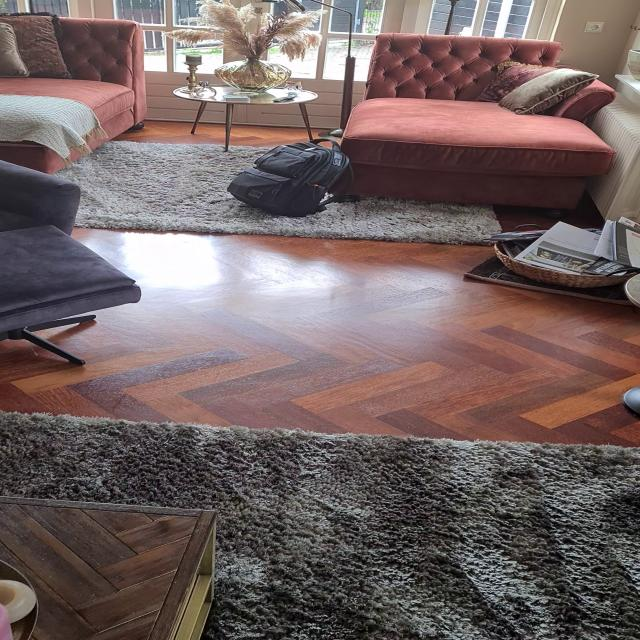backpack: (221, 137, 359, 218)
